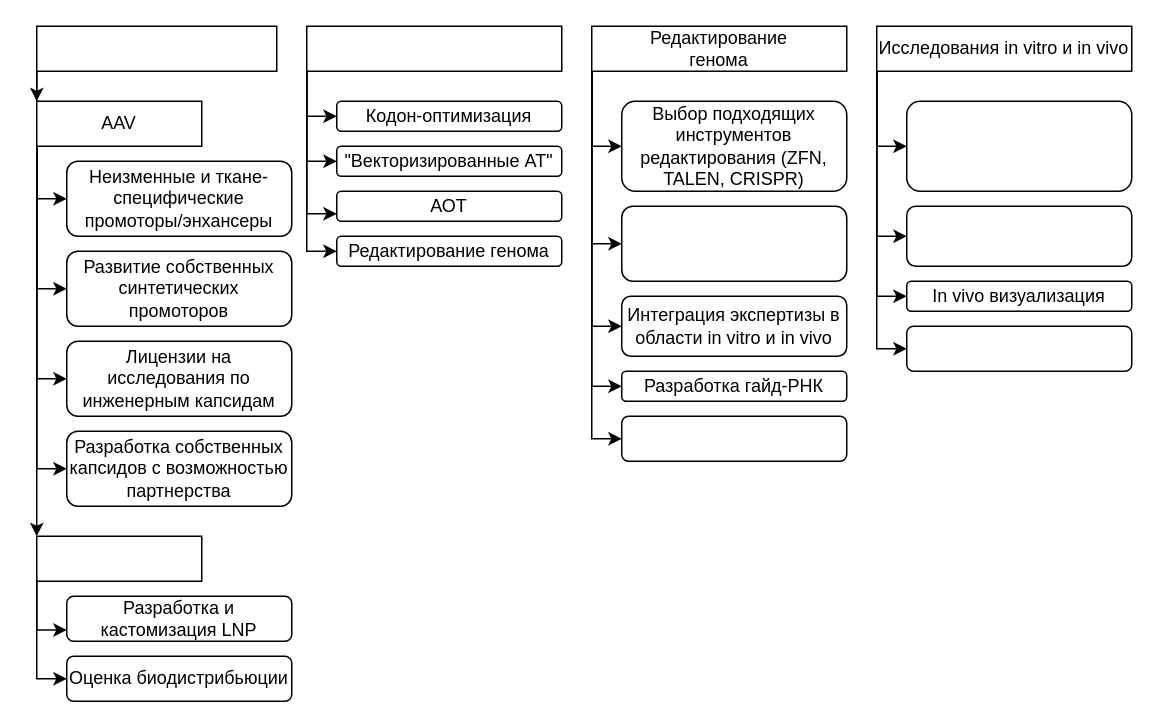
Image size: 1160x728. Some labels were removed from this diagram. The centre of each missing label's shape, as x and y in pixels:
"Исследования in vitro: клеточная трансдукция, инфекционность и биопотентность" goes at (x=1018, y=145).
"Конструкция терапевтических агентов" goes at (x=433, y=48).
"Методы доставки" goes at (x=156, y=48).
"Невирусные" goes at (x=118, y=558).
"Оптимизация компонентов редактирования" goes at (x=733, y=243).
"Оценка off-таргет эффектов и др." goes at (x=1018, y=348).
"Оценка распространения вируса" goes at (x=1018, y=235).
"Оценка эффективности редактирования" goes at (x=733, y=438).
